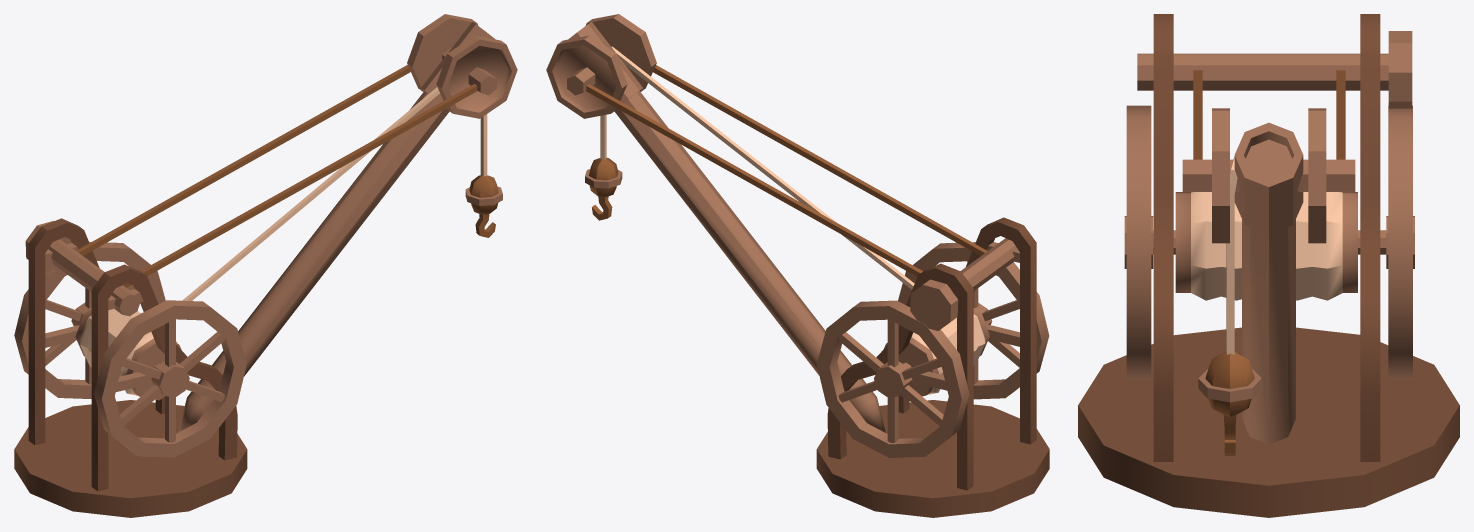
File: guindaste_pacote.glb
3 renders of one model, left to right at view 1: azimuth 30°, elevation 25°; view 2: azimuth 150°, elevation 25°; view 3: azimuth 270°, elevation 25°, orthographic. The views are drawn at different scales.
Visible parts, largest first — view 1: guindaste_pacote; view 2: guindaste_pacote; view 3: guindaste_pacote.
Part boxes in pixels (box(x1,y1,x2,y2)): guindaste_pacote: box(14, 14, 517, 517); guindaste_pacote: box(546, 14, 1049, 517); guindaste_pacote: box(1078, 14, 1459, 517).
Size of the model in its own units: 5.01 by 3.66 by 2.14.
1 material, 1 textured.
